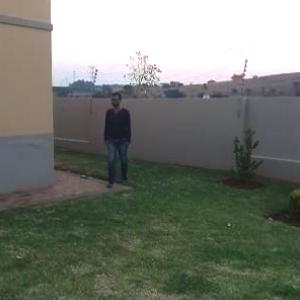follow: (101, 88, 136, 194)
